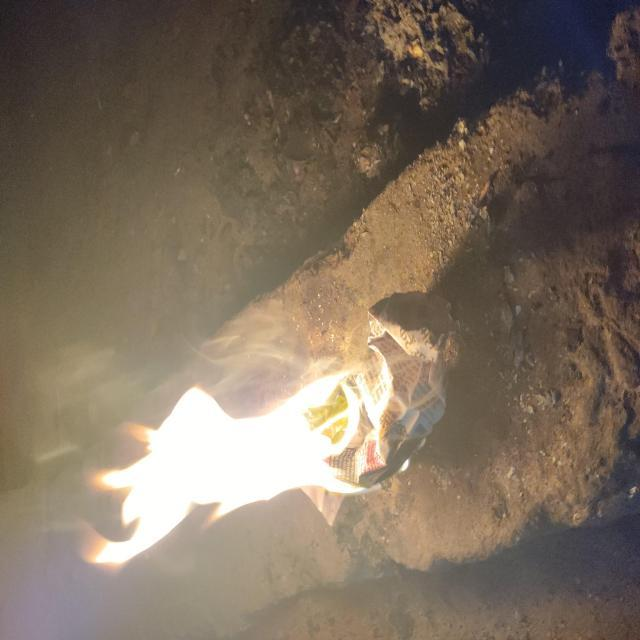Fire: (76, 374, 388, 584)
